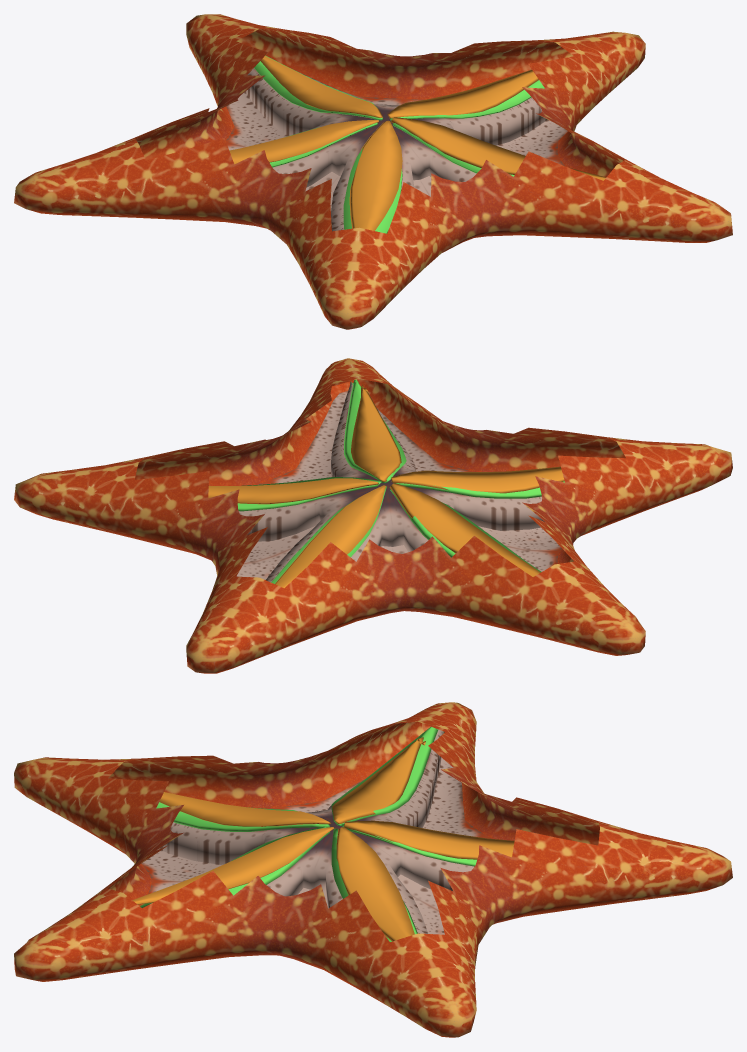
The model's file is starfish_unity.fbx.
The picture shows the model from 3 angles, top to bottom: view 1: azimuth 30°, elevation 25°; view 2: azimuth 150°, elevation 25°; view 3: azimuth 270°, elevation 25°; orthographic projection. The views are drawn at different scales.
Parts seen in each view (by area): view 1: starfish, digestive_gland.004, digestive_gland.003, digestive_gland.002, digestive_gland.001, digestive_gland, gonad, gonad.003, gonad.001; view 2: starfish, digestive_gland, digestive_gland.001, digestive_gland.004, digestive_gland.003, digestive_gland.002, gonad.002, gonad.003, gonad.001, gonad.004, gonad; view 3: starfish, digestive_gland.002, digestive_gland.003, digestive_gland.001, digestive_gland, digestive_gland.004, gonad.004, gonad.003, gonad.002, gonad, gonad.001.
Part boxes in pixels (x1,y1,x2,y2): starfish: (14, 14, 732, 329); digestive_gland.004: (349, 120, 402, 230); digestive_gland.003: (391, 117, 606, 180); digestive_gland.002: (387, 69, 538, 118); digestive_gland.001: (260, 56, 383, 117); digestive_gland: (229, 120, 378, 164); gonad: (254, 55, 382, 120); gonad.003: (343, 148, 402, 233); gonad.001: (390, 80, 544, 120); starfish: (14, 358, 732, 673); digestive_gland: (389, 483, 540, 576); digestive_gland.001: (275, 485, 385, 588); digestive_gland.004: (391, 466, 564, 493); digestive_gland.003: (351, 385, 401, 481); digestive_gland.002: (208, 478, 378, 504); gonad.002: (344, 379, 406, 483); gonad.003: (394, 481, 564, 498); gonad.001: (237, 477, 381, 511); gonad.004: (390, 489, 541, 572); gonad: (271, 486, 386, 583); starfish: (14, 702, 732, 1037); digestive_gland.002: (336, 827, 414, 941); digestive_gland.003: (132, 827, 333, 904); digestive_gland.001: (344, 820, 514, 859); digestive_gland: (332, 737, 425, 823); digestive_gland.004: (159, 792, 331, 826); gonad.004: (331, 726, 443, 825); gonad.003: (156, 802, 330, 831); gonad.002: (140, 826, 330, 907); gonad: (341, 824, 476, 866); gonad.001: (331, 828, 417, 941).
Bounding box in the file's own units: 217 × 23.78 × 207.
